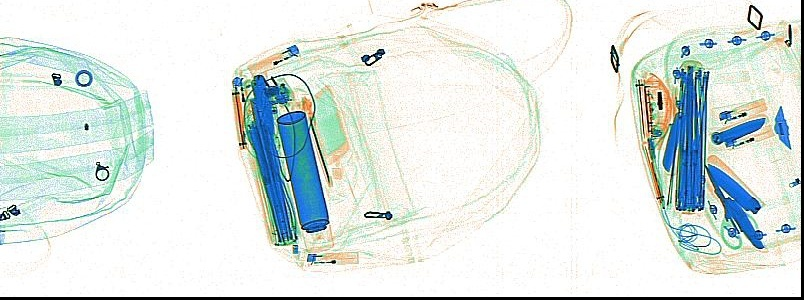knife: (702, 170, 763, 249), (704, 153, 760, 213), (306, 114, 333, 187), (709, 114, 768, 147), (248, 71, 274, 135), (640, 141, 664, 208), (659, 111, 684, 173), (228, 85, 247, 148), (634, 77, 645, 133)
lighter: (245, 42, 299, 78), (717, 98, 767, 126), (724, 125, 774, 151), (303, 249, 359, 265), (230, 73, 248, 120)
pressure: (275, 110, 330, 234)
scissors: (702, 162, 759, 248)
